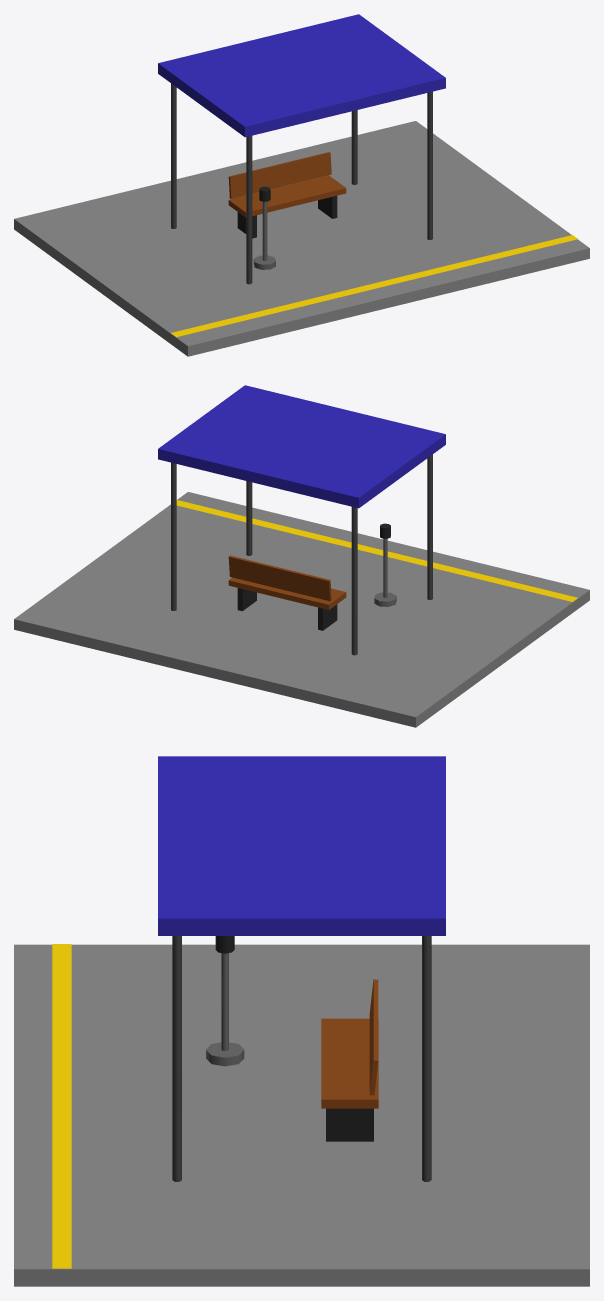
File: smoking_area_lopoly.glb
The picture shows the model from 3 angles, top to bottom: view 1: azimuth 30°, elevation 25°; view 2: azimuth 150°, elevation 25°; view 3: azimuth 270°, elevation 25°; orthographic projection. The views are drawn at different scales.
Size of the model in its own units: 8 by 3.3 by 6.
